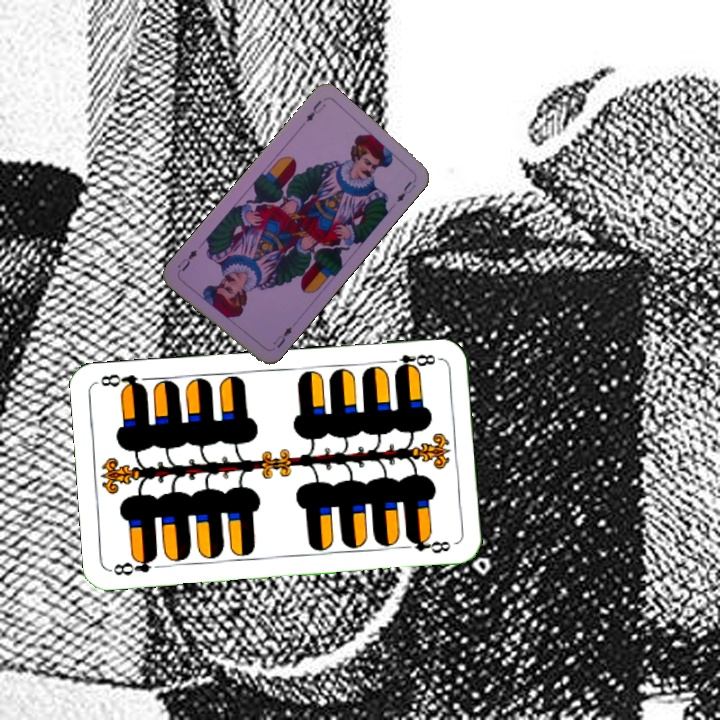E8: (383, 350, 443, 375), (108, 551, 160, 579)
EU: (301, 96, 328, 125), (269, 322, 295, 351)
